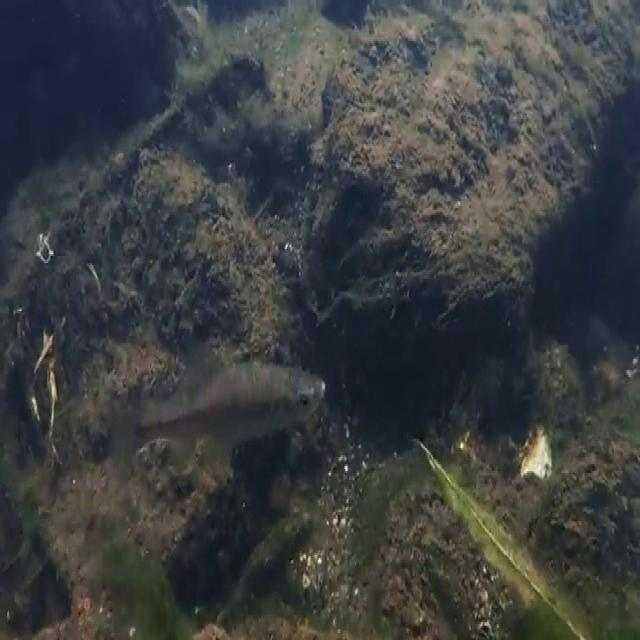Cakil Baligi: (118, 337, 330, 474)
